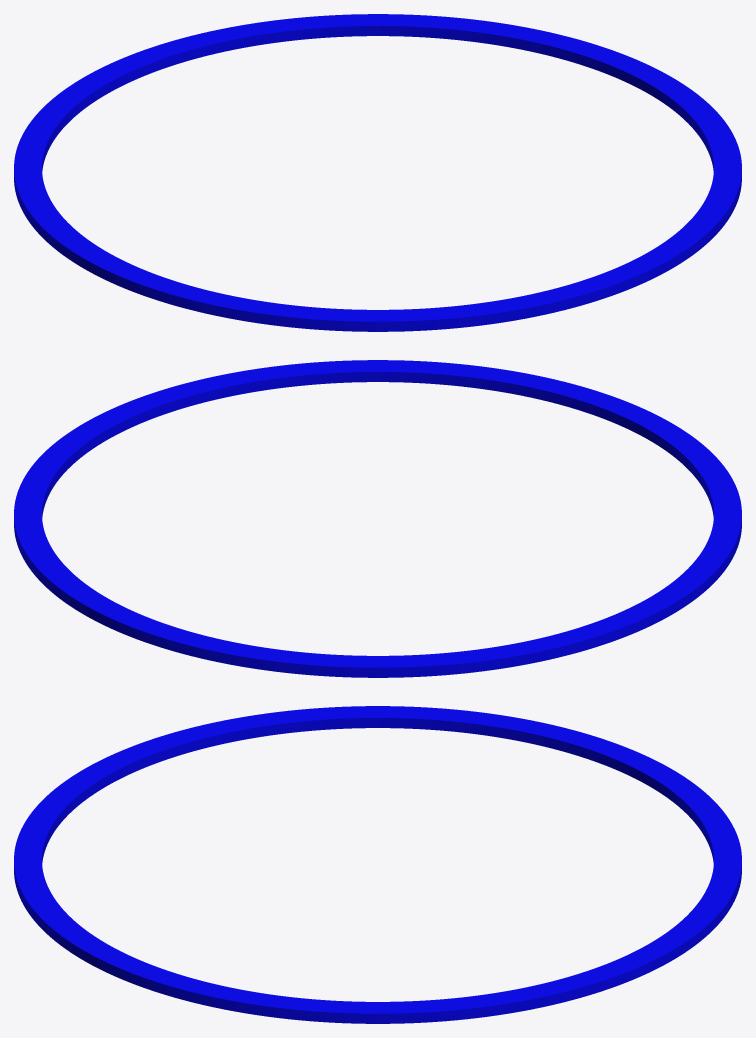
Rendered from hoop.dae.
3 views of the same model, one above another, from view 1: azimuth 30°, elevation 25°; view 2: azimuth 150°, elevation 25°; view 3: azimuth 270°, elevation 25° (orthographic).
Visible parts, largest first — view 1: ID2; view 2: ID2; view 3: ID2.
Part boxes in pixels (x1,y1,x2,y2): ID2: (14,14,741,331); ID2: (14,360,741,677); ID2: (14,706,741,1023).
Size of the model in its own units: 0.3302 by 0.3302 by 0.00508.
